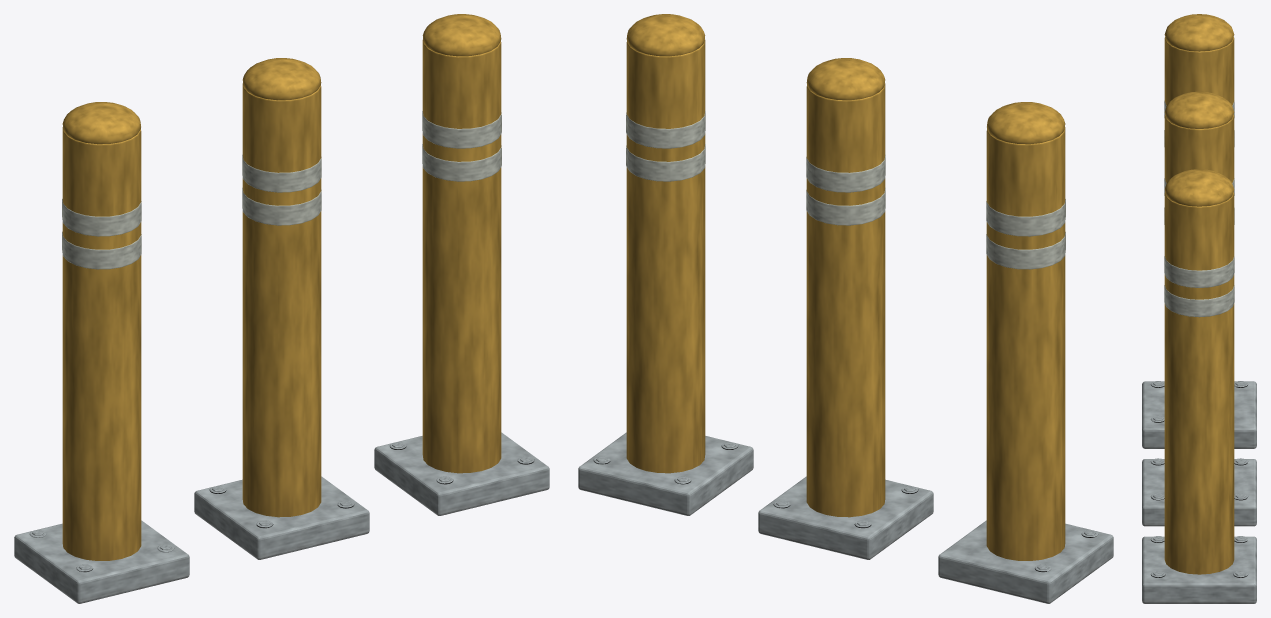
The model's file is GR_BollardSet_01.glb.
3 renders of one model, left to right at view 1: azimuth 30°, elevation 25°; view 2: azimuth 150°, elevation 25°; view 3: azimuth 270°, elevation 25°, orthographic. The views are drawn at different scales.
Visible parts, largest first — view 1: Static; view 2: Static; view 3: Static.
Boxes of the visible parts, x1=… form: Static: x1=14, y1=14, x2=549, y2=603; Static: x1=578, y1=14, x2=1113, y2=603; Static: x1=1142, y1=14, x2=1256, y2=603.
Size of the model in its own units: 1.05 by 0.975 by 0.25.
Materials: 1 (1 with a texture image).
